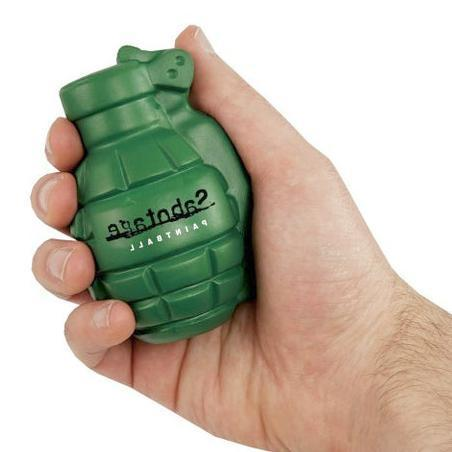Grenade: (60, 45, 254, 344)
